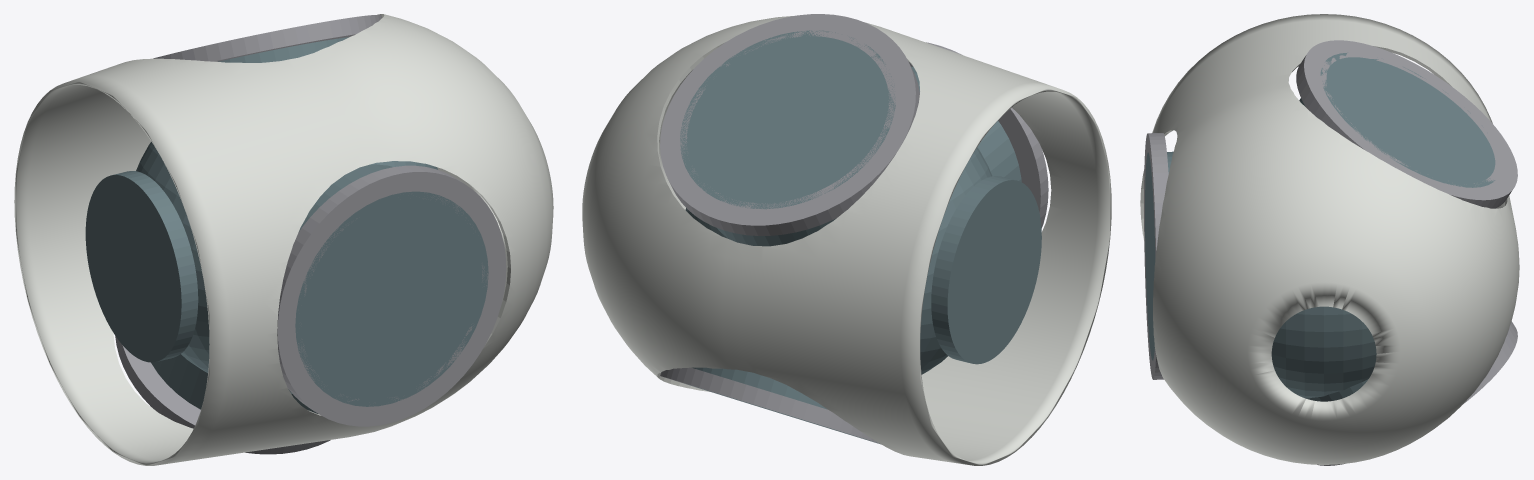
Rendered from hub.glb.
3 views of the same model, side by side, from view 1: azimuth 30°, elevation 25°; view 2: azimuth 150°, elevation 25°; view 3: azimuth 270°, elevation 25° (orthographic). The views are drawn at different scales.
Visible parts, largest first — view 1: hub; view 2: hub; view 3: hub.
Part boxes in pixels (bbox=[...]): hub: bbox=[14, 14, 553, 465]; hub: bbox=[582, 14, 1111, 465]; hub: bbox=[1140, 14, 1519, 465].
Size of the model in its own units: 4.86 by 4.89 by 4.36.
